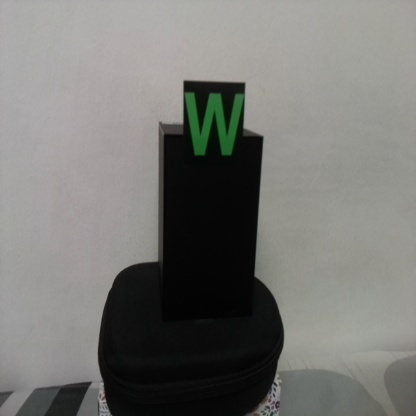id_12: (182, 81, 245, 169)
